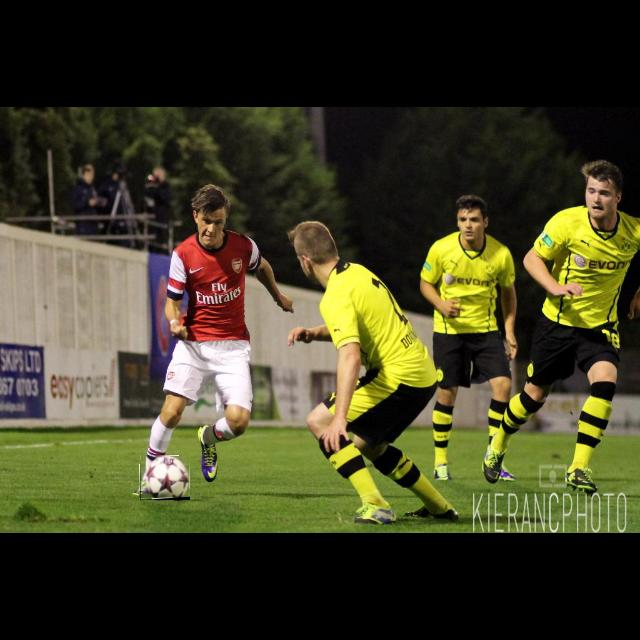Football: (140, 456, 190, 500)
